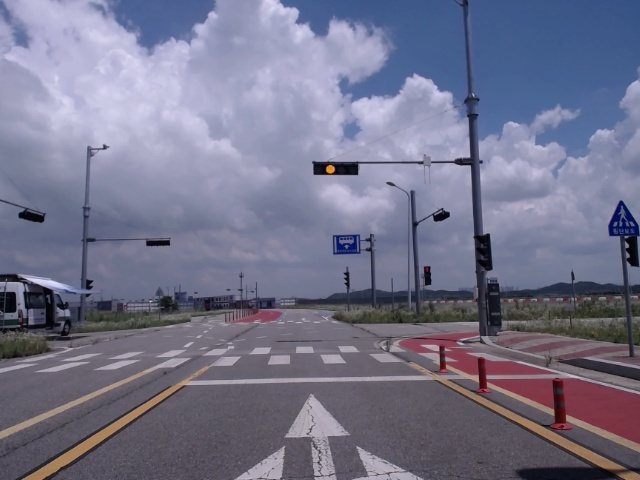orange_4: (312, 162, 360, 176)
